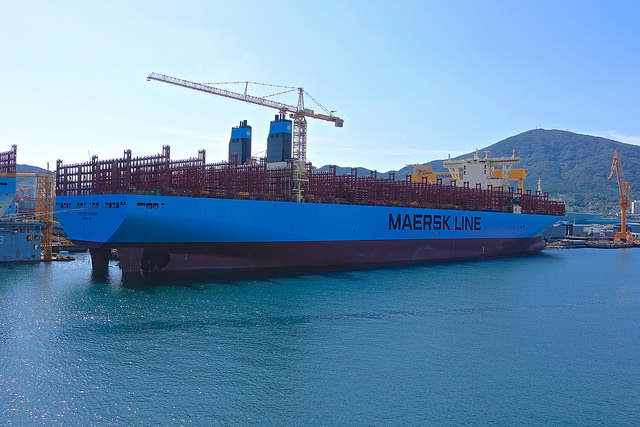container_ship: (55, 121, 564, 266)
